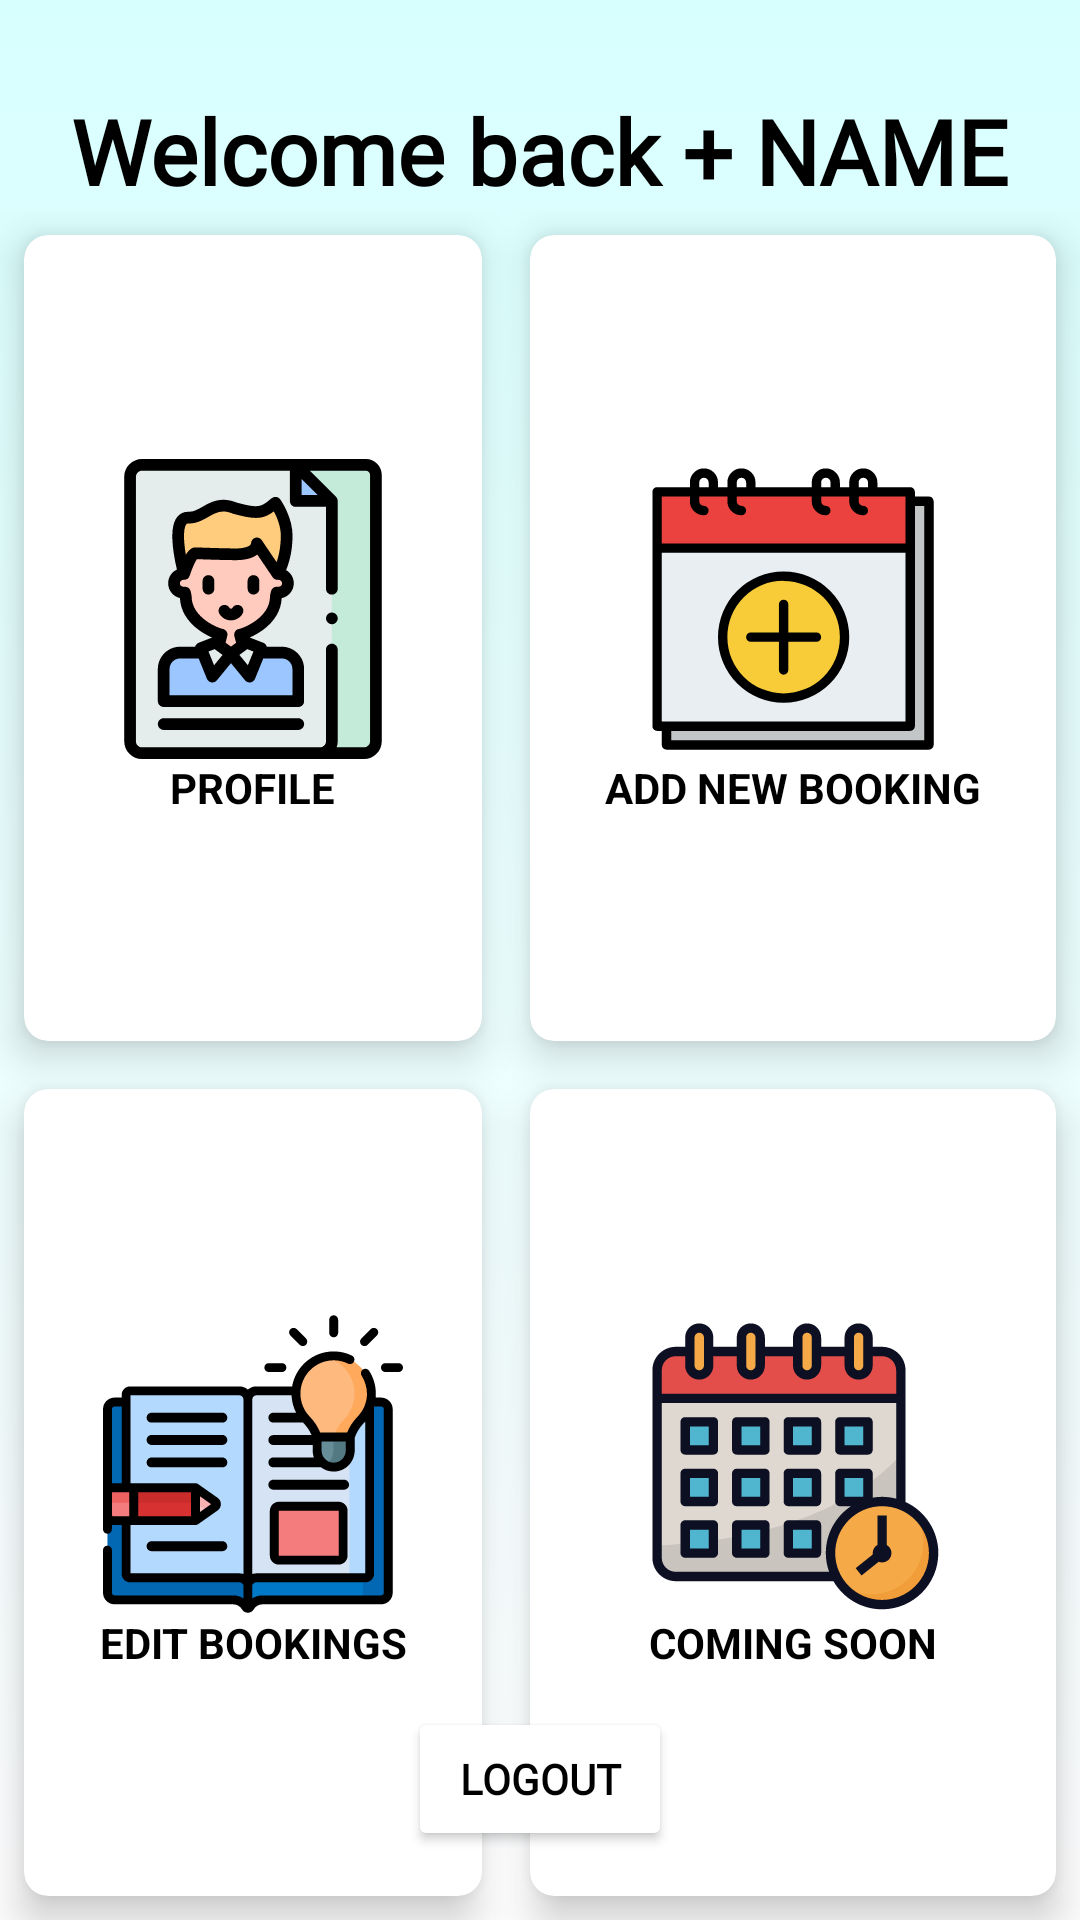

Point at icon controls on the screen. Image size 1080px×1920px, points as [x,y].
calendar view: [795,1466]
